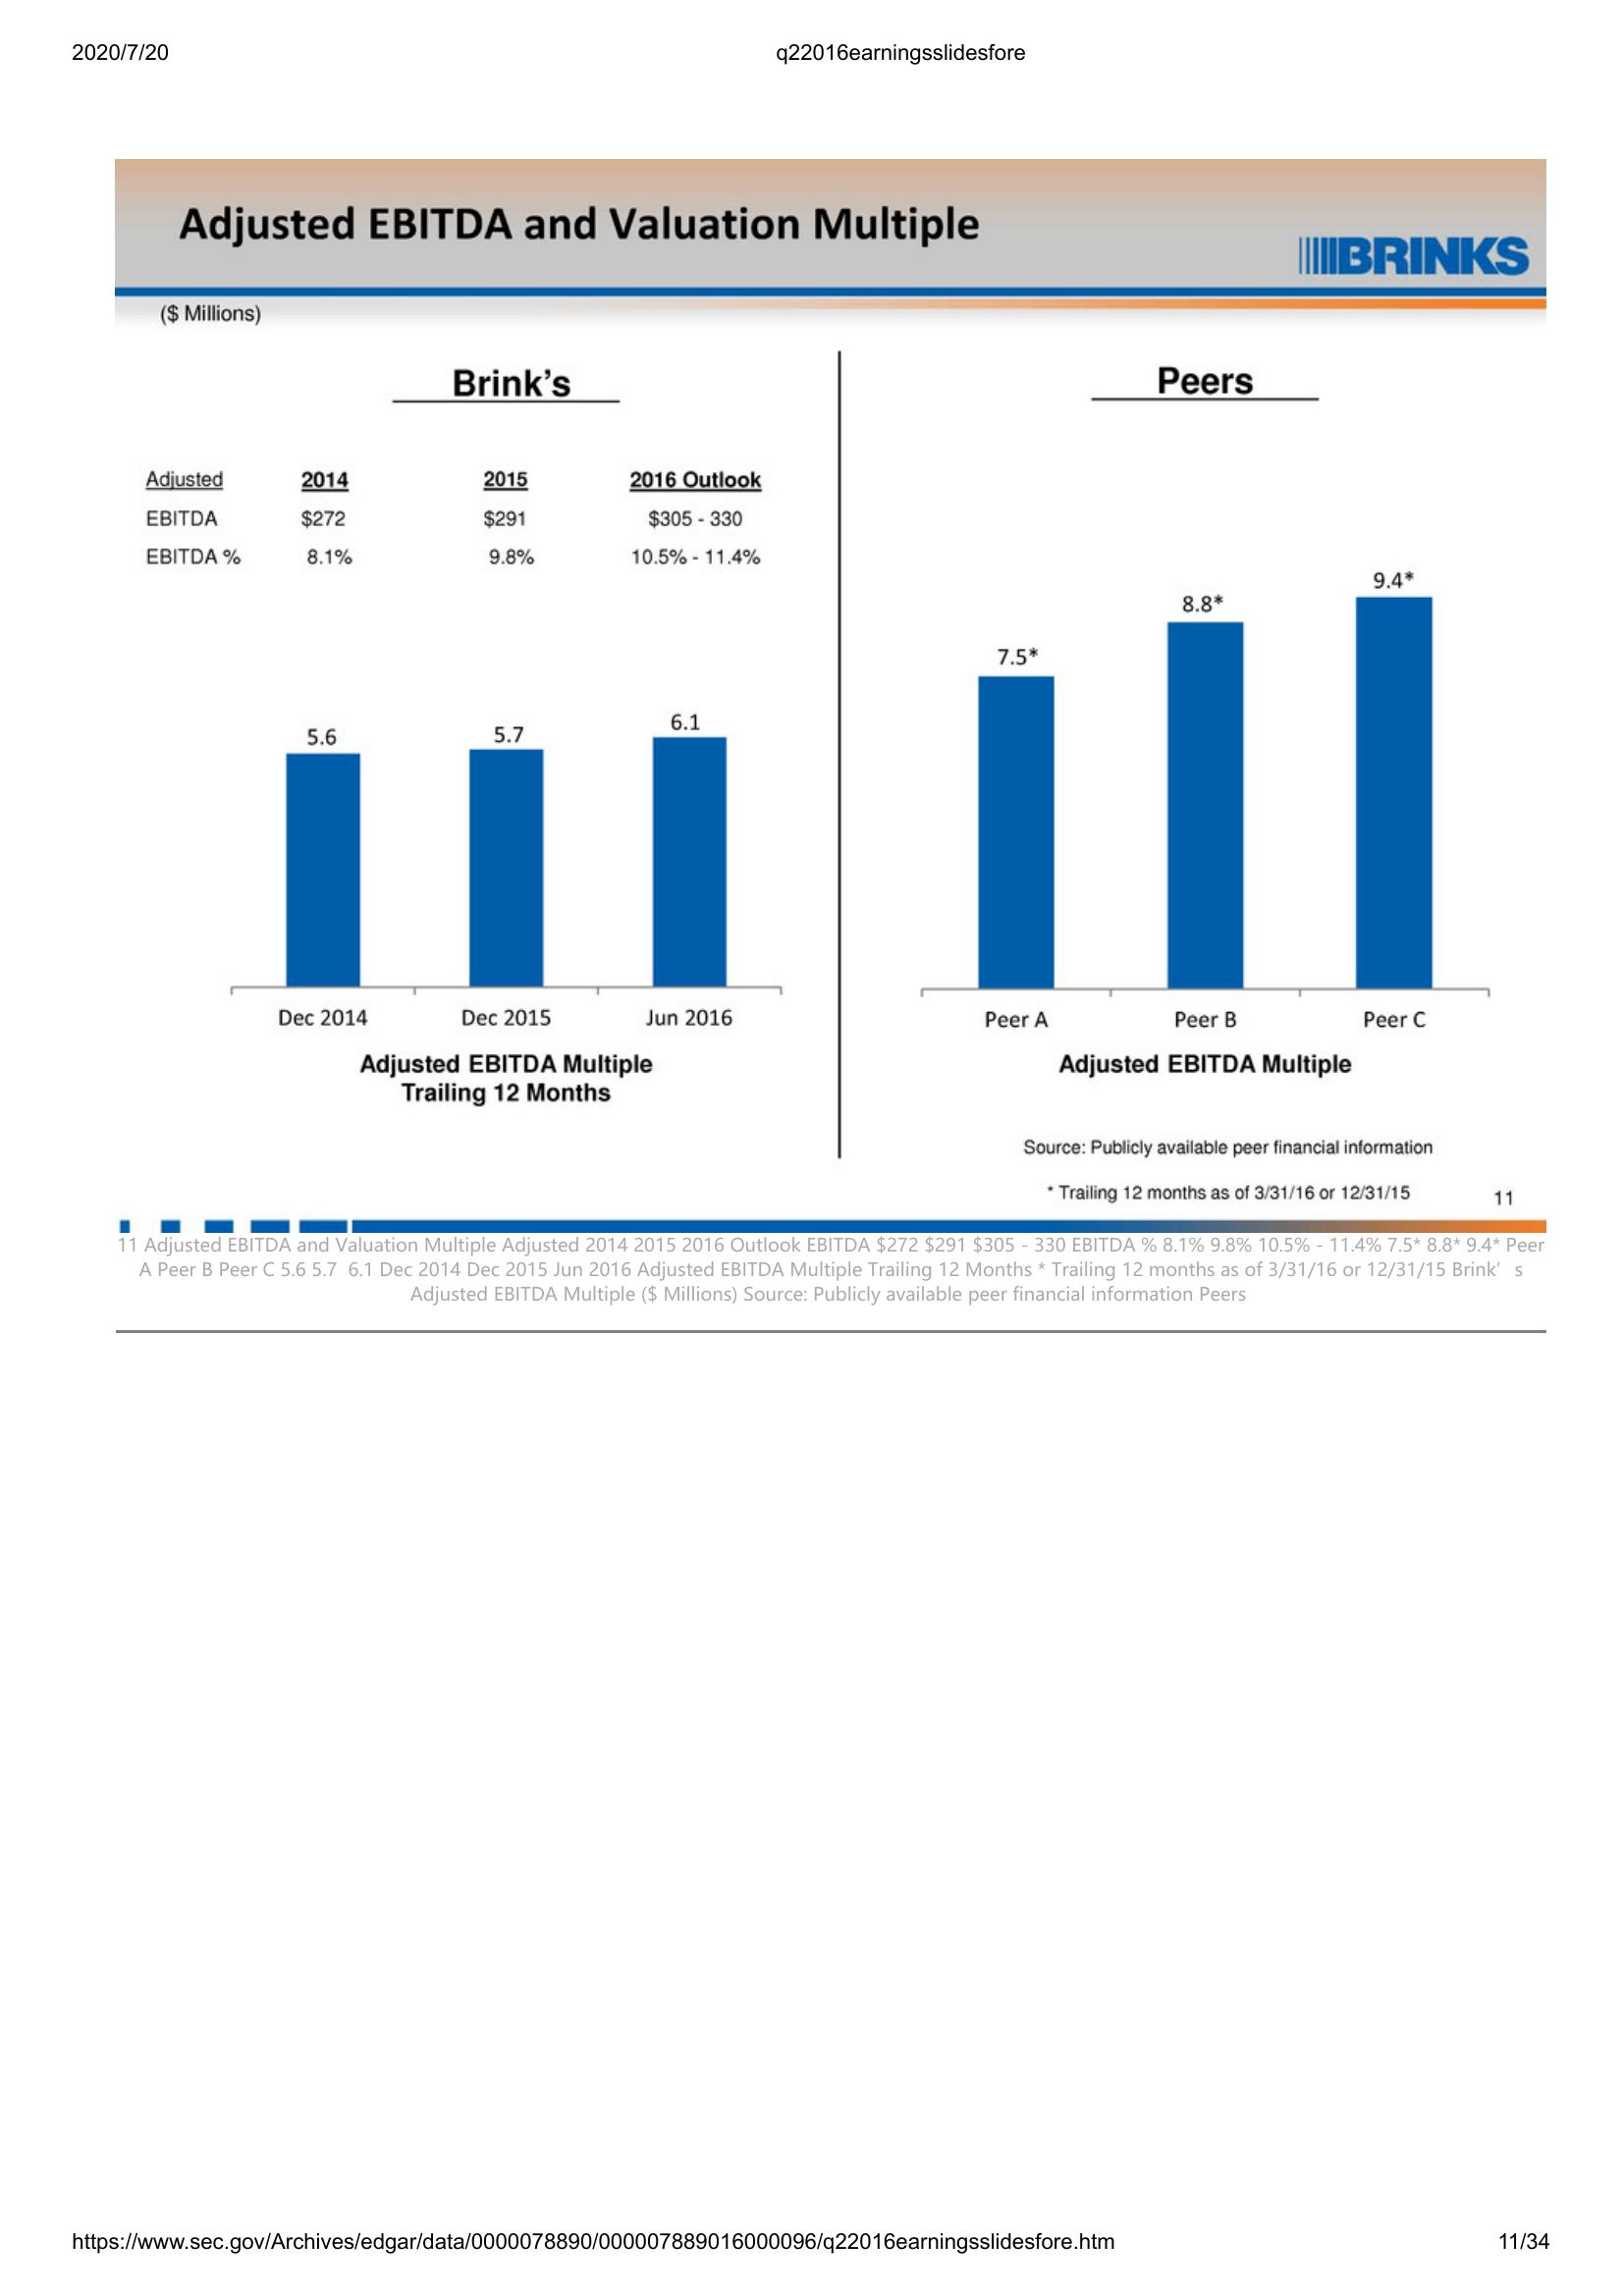table: (135, 460, 792, 576)
